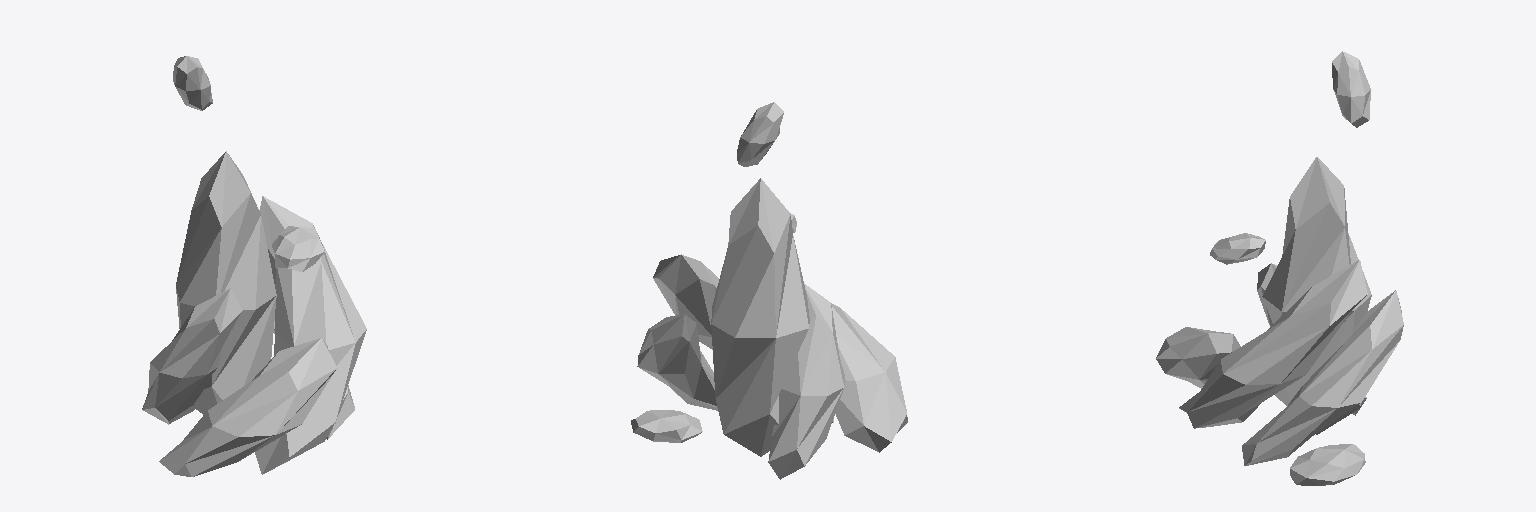
File: RocksAlien.obj
3 views of the same model, side by side, from view 1: azimuth 30°, elevation 25°; view 2: azimuth 150°, elevation 25°; view 3: azimuth 270°, elevation 25° (orthographic).
Parts seen in each view (by area): view 1: Cube.014_Cube.007, Cube.014_Cube.003, Cube.014_Cube.004, Cube.014_Cube.006, Cube.014_Cube.001, Cube.014_Cube.005; view 2: Cube.014_Cube.007, Cube.014_Cube.006, Cube.014_Cube.004, Cube.014_Cube.002, Cube.014_Cube.003, Cube.014_Cube.005, Cube.014_Cube.008; view 3: Cube.014_Cube.003, Cube.014_Cube.007, Cube.014_Cube.002, Cube.014_Cube.004, Cube.014_Cube.008, Cube.014_Cube.005, Cube.014_Cube.001.
Part boxes in pixels (bbox=[...]): Cube.014_Cube.007: bbox=[176, 151, 276, 414]; Cube.014_Cube.003: bbox=[255, 196, 366, 474]; Cube.014_Cube.004: bbox=[159, 338, 336, 476]; Cube.014_Cube.006: bbox=[142, 288, 242, 424]; Cube.014_Cube.001: bbox=[272, 226, 324, 271]; Cube.014_Cube.005: bbox=[173, 56, 212, 110]; Cube.014_Cube.007: bbox=[711, 178, 809, 456]; Cube.014_Cube.006: bbox=[768, 283, 844, 479]; Cube.014_Cube.004: bbox=[831, 303, 907, 452]; Cube.014_Cube.002: bbox=[637, 314, 717, 410]; Cube.014_Cube.003: bbox=[653, 254, 833, 422]; Cube.014_Cube.005: bbox=[737, 102, 783, 166]; Cube.014_Cube.008: bbox=[631, 410, 702, 442]; Cube.014_Cube.003: bbox=[1179, 260, 1367, 428]; Cube.014_Cube.007: bbox=[1262, 157, 1371, 434]; Cube.014_Cube.002: bbox=[1242, 290, 1403, 465]; Cube.014_Cube.004: bbox=[1156, 327, 1240, 388]; Cube.014_Cube.008: bbox=[1290, 444, 1365, 485]; Cube.014_Cube.005: bbox=[1332, 51, 1370, 127]; Cube.014_Cube.001: bbox=[1210, 233, 1265, 264].
Bounding box in the file's own units: 2.59 × 4.17 × 2.52.